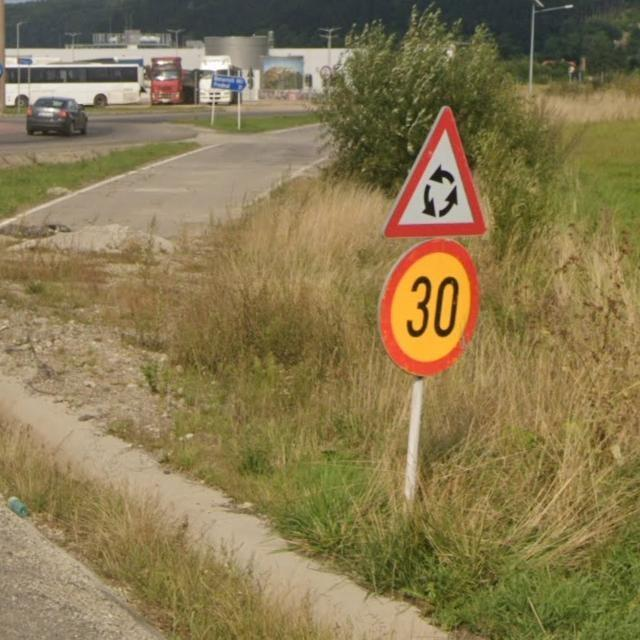forb_speed_over_30: (381, 238, 482, 378)
